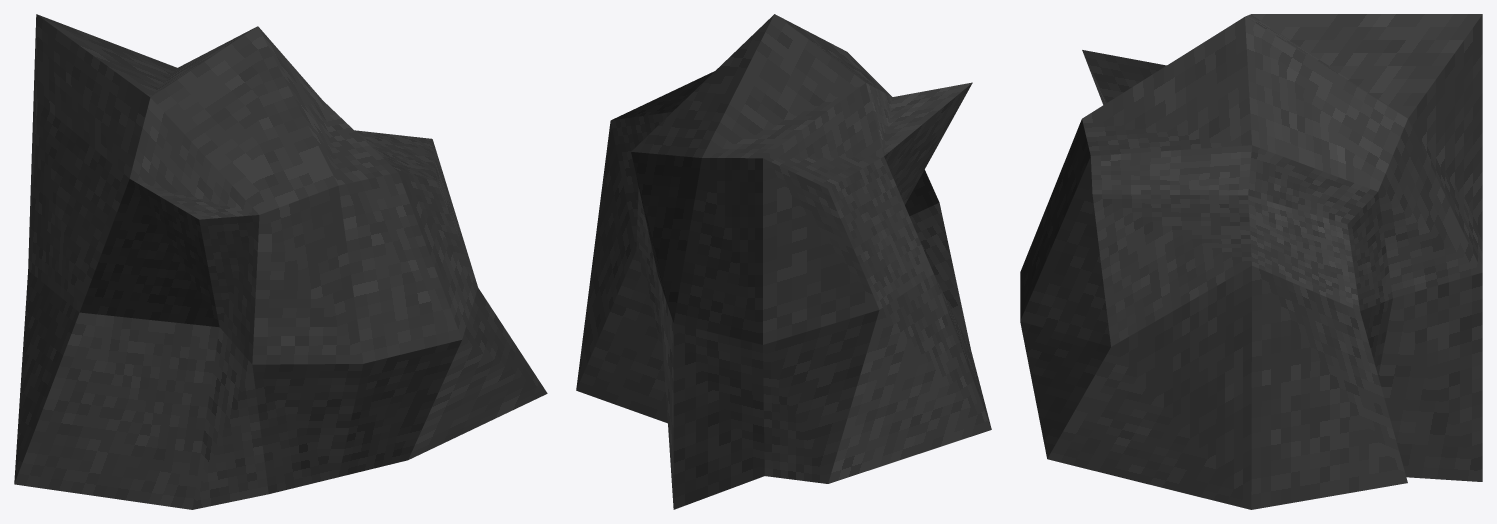
Rendered from rock03.glb.
3 renders of one model, left to right at view 1: azimuth 30°, elevation 25°; view 2: azimuth 150°, elevation 25°; view 3: azimuth 270°, elevation 25°, orthographic. The views are drawn at different scales.
Visible parts, largest first — view 1: Cube; view 2: Cube; view 3: Cube.
Part boxes in pixels (x1=…): Cube: x1=14, y1=14, x2=547, y2=509; Cube: x1=576, y1=14, x2=991, y2=509; Cube: x1=1020, y1=14, x2=1482, y2=509.
Bounding box in the file's own units: 5.12 × 5.2 × 4.66.
1 material, 1 textured.
